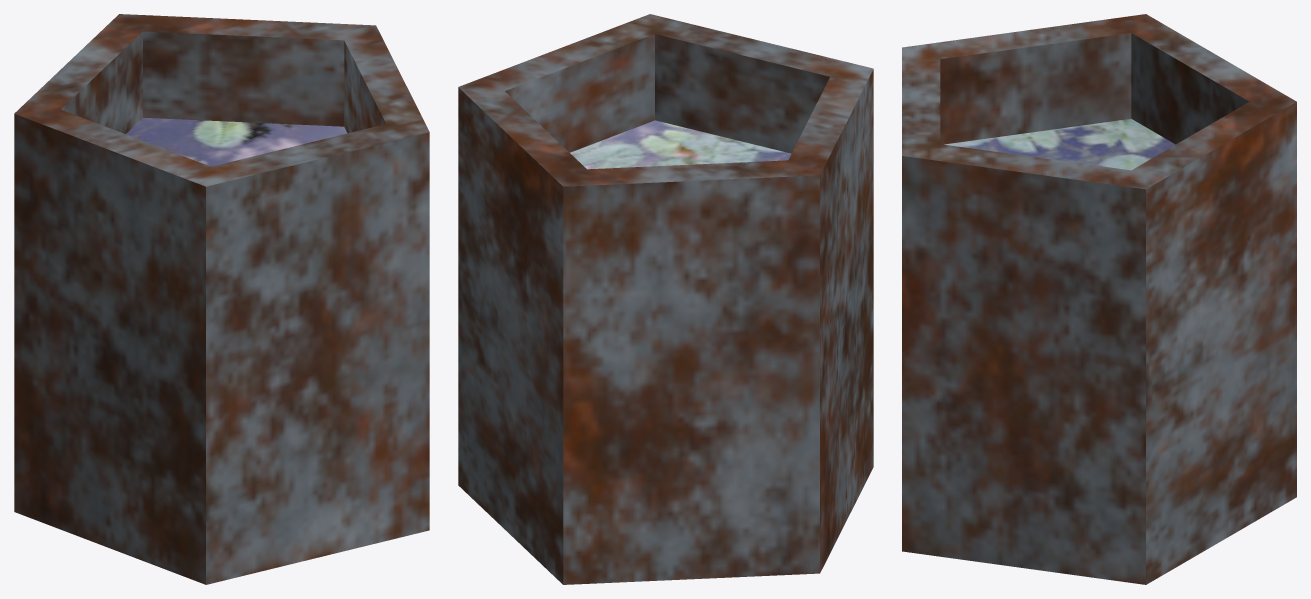
File: barrel.fbx
3 renders of one model, left to right at view 1: azimuth 30°, elevation 25°; view 2: azimuth 150°, elevation 25°; view 3: azimuth 270°, elevation 25°, orthographic.
Visible parts, largest first — view 1: Cylinder; view 2: Cylinder; view 3: Cylinder.
Part boxes in pixels (x1,y1,x2,y2): Cylinder: (14, 14, 429, 584); Cylinder: (458, 14, 873, 584); Cylinder: (902, 14, 1296, 584).
Bounding box in the file's own units: 190 × 200 × 181.
